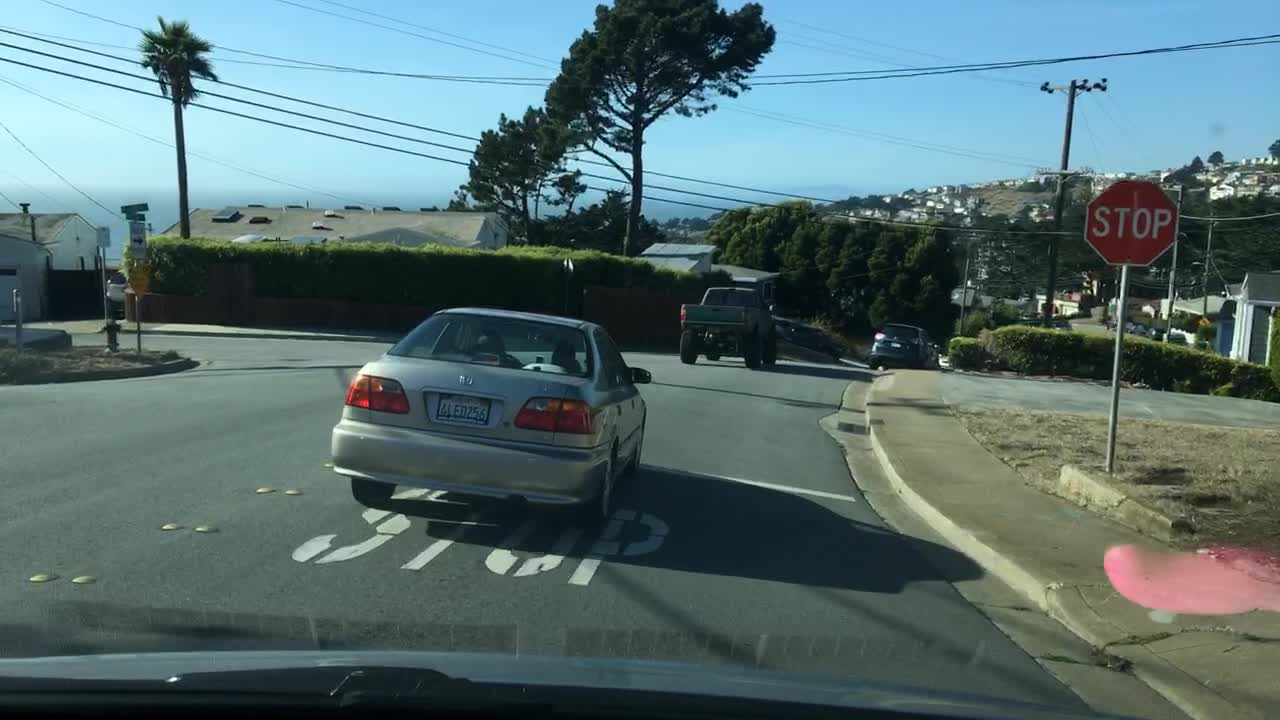car: (328, 305, 652, 539), (1080, 176, 1178, 269), (867, 321, 939, 365), (1148, 326, 1163, 339), (1131, 322, 1144, 336)
traffic sign: (127, 267, 155, 298), (129, 214, 148, 257), (97, 223, 113, 247), (123, 198, 149, 212), (1196, 312, 1210, 325)
truck: (676, 283, 785, 365)
